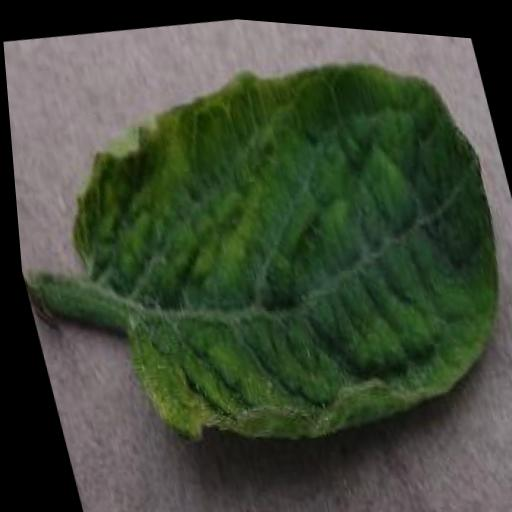Yellow Leaf Curl Virus: (27, 13, 512, 483)
